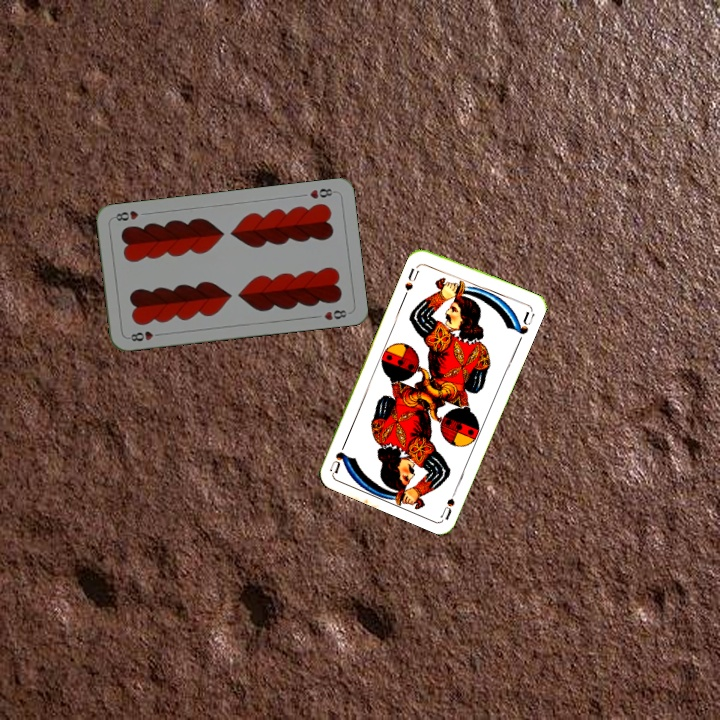H8: (124, 327, 165, 344), (306, 184, 338, 201)
SU: (437, 481, 461, 521), (400, 264, 422, 293)
